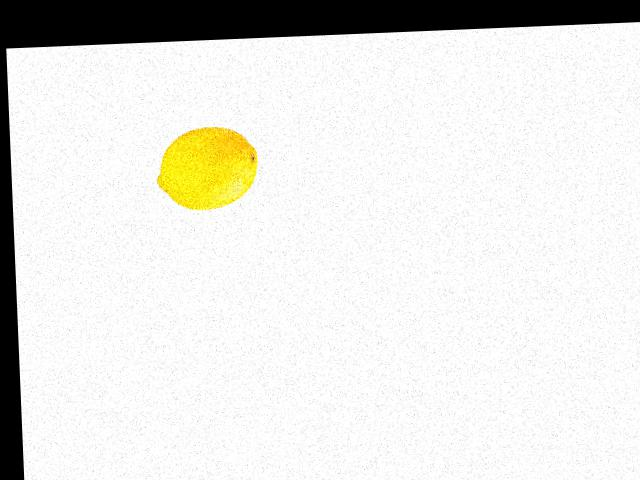lemon: (153, 123, 261, 215)
